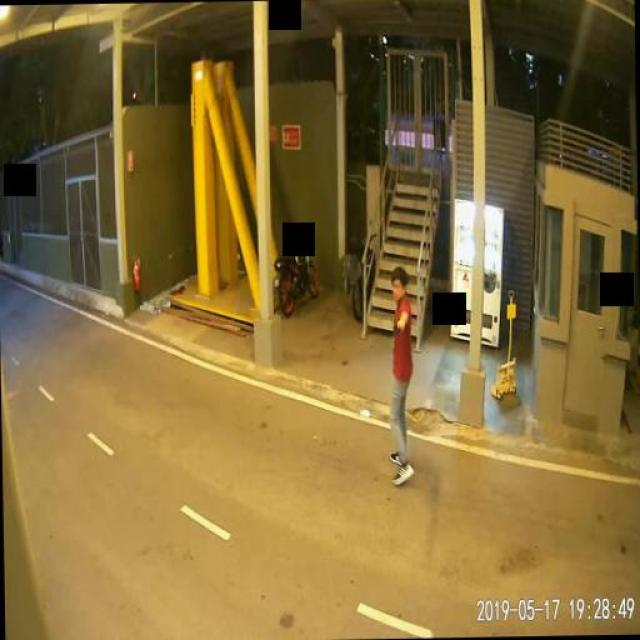gun: (391, 316, 405, 332)
